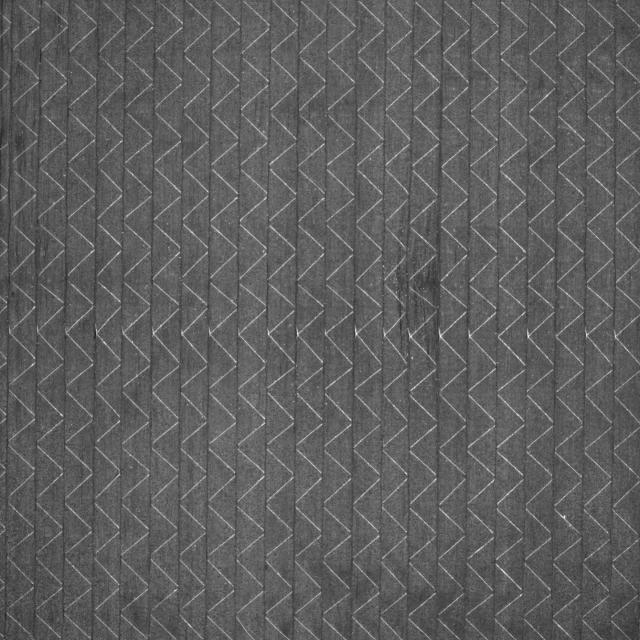carbon-fibre-defect: (382, 254, 444, 372)
